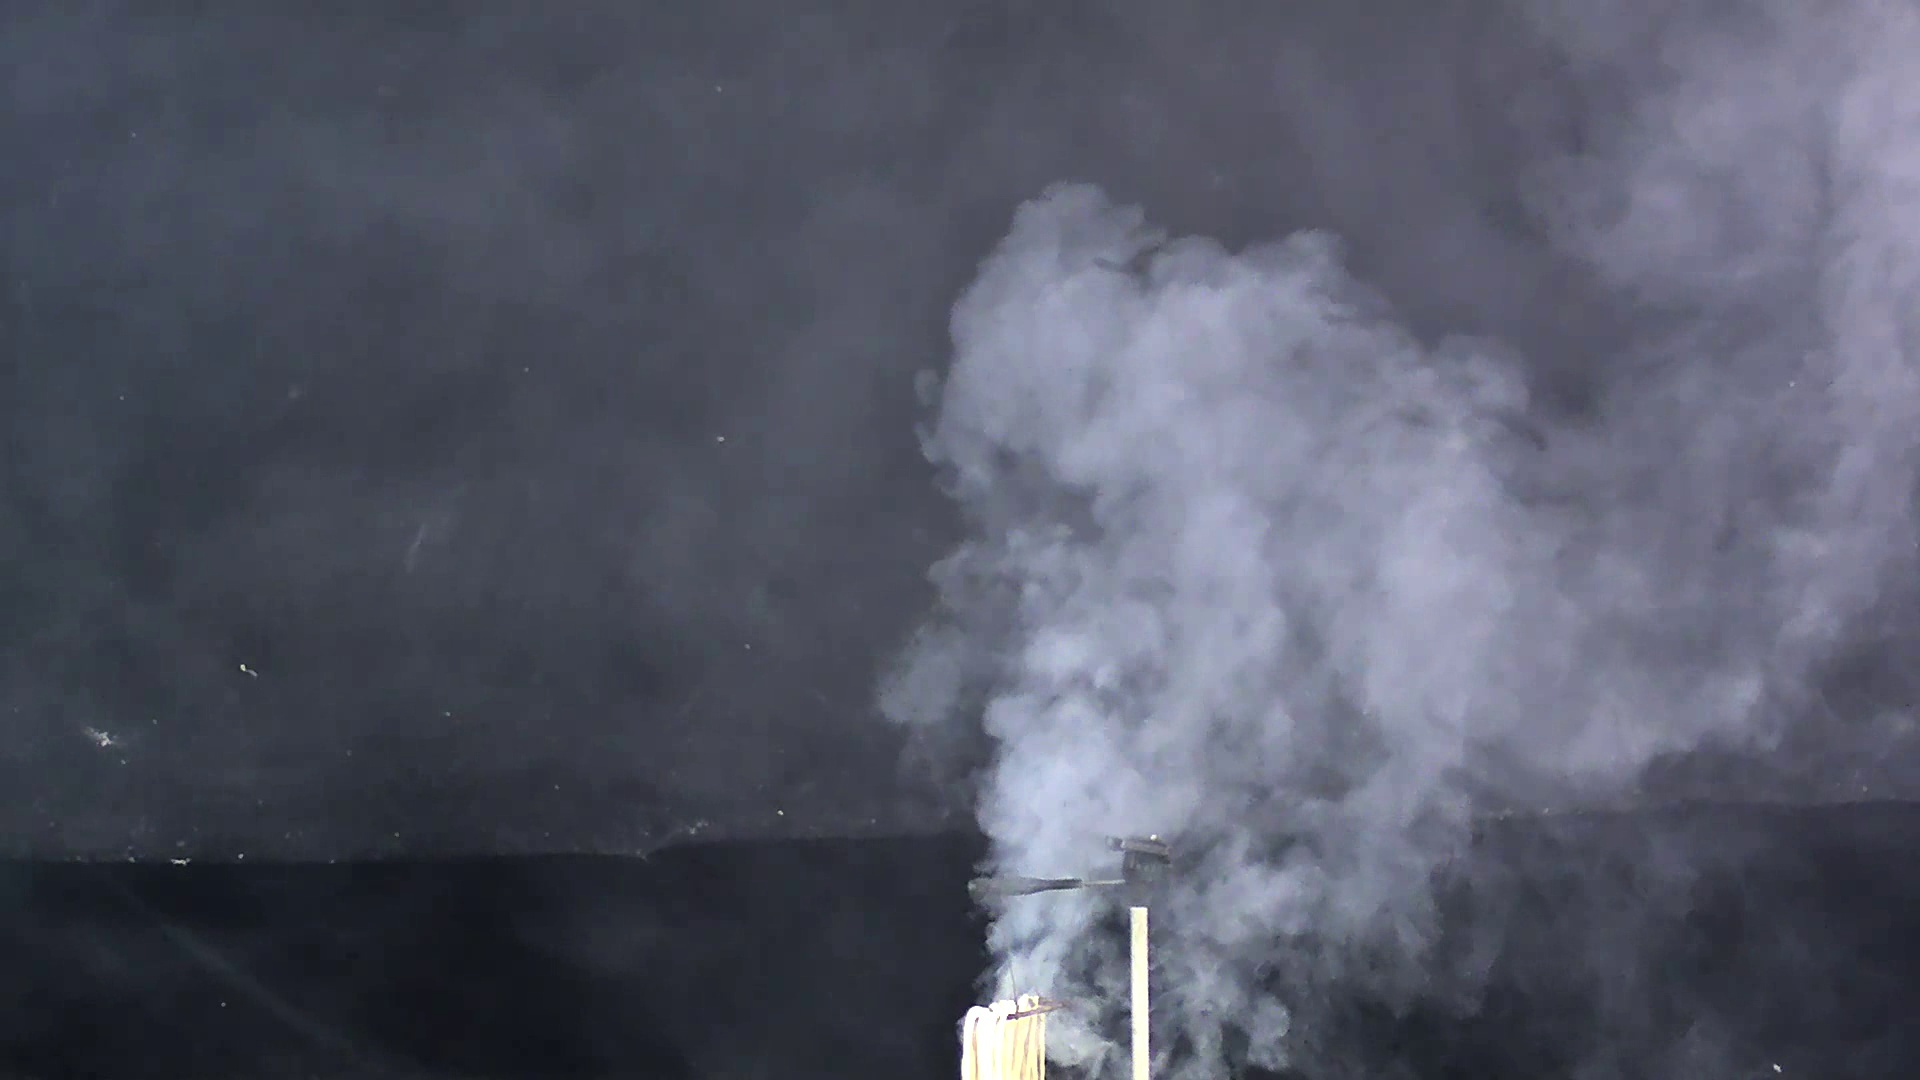smoke: (837, 160, 1708, 1072)
